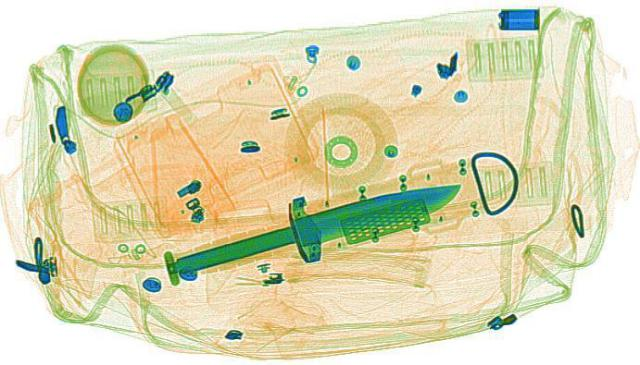Knife: (124, 156, 490, 301)
